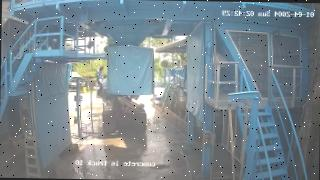cement_mixer_truck: (96, 77, 146, 133)
